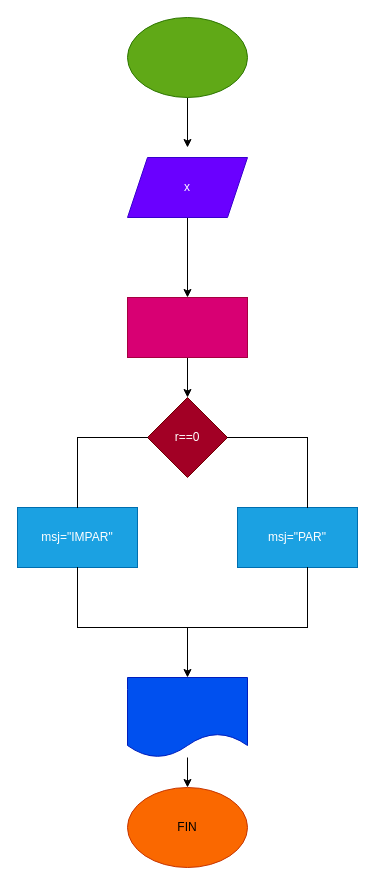
The diagram is 375 pixels wide and 885 high, and some of its shapes have lost their labels. Each missing label, with the centre of its shape:
INICIO: the point at 187,57
r = x%2: the point at 187,327
x es mjs: the point at 187,717
